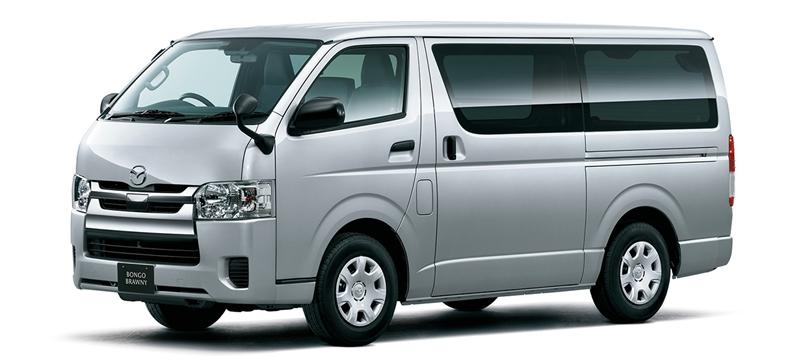van: (67, 21, 737, 346)
